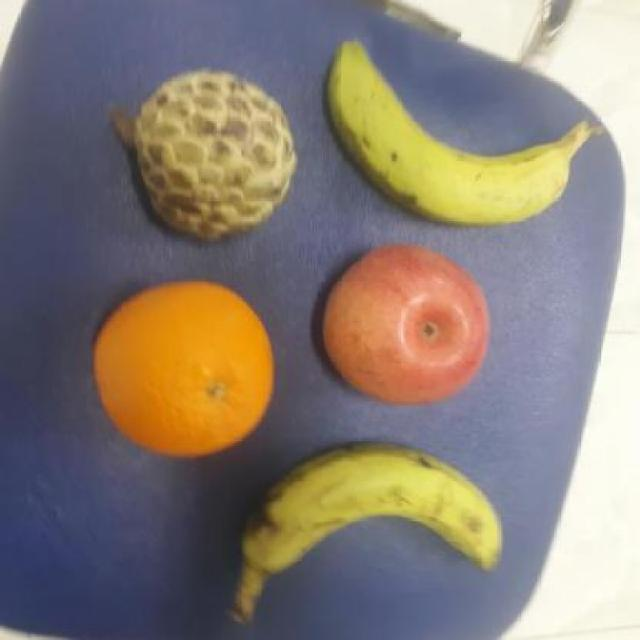apple: (318, 237, 490, 408)
banana: (322, 42, 592, 232), (238, 436, 510, 586)
oren: (91, 278, 278, 458)
sugar apple: (128, 66, 298, 240)
